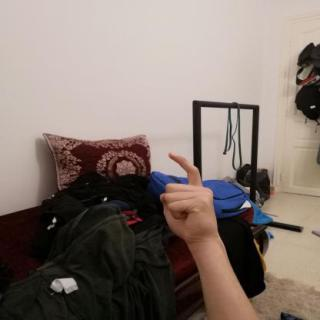RAA: (152, 148, 225, 247)
